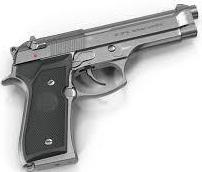gun: (1, 1, 202, 172)
